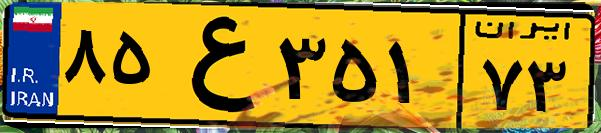1: (385, 28, 445, 110)
3: (270, 28, 330, 110), (525, 38, 570, 115)
5: (330, 28, 385, 110), (110, 28, 158, 98)
7: (475, 38, 525, 113)
8: (57, 26, 110, 100)
ع: (158, 12, 270, 120)
